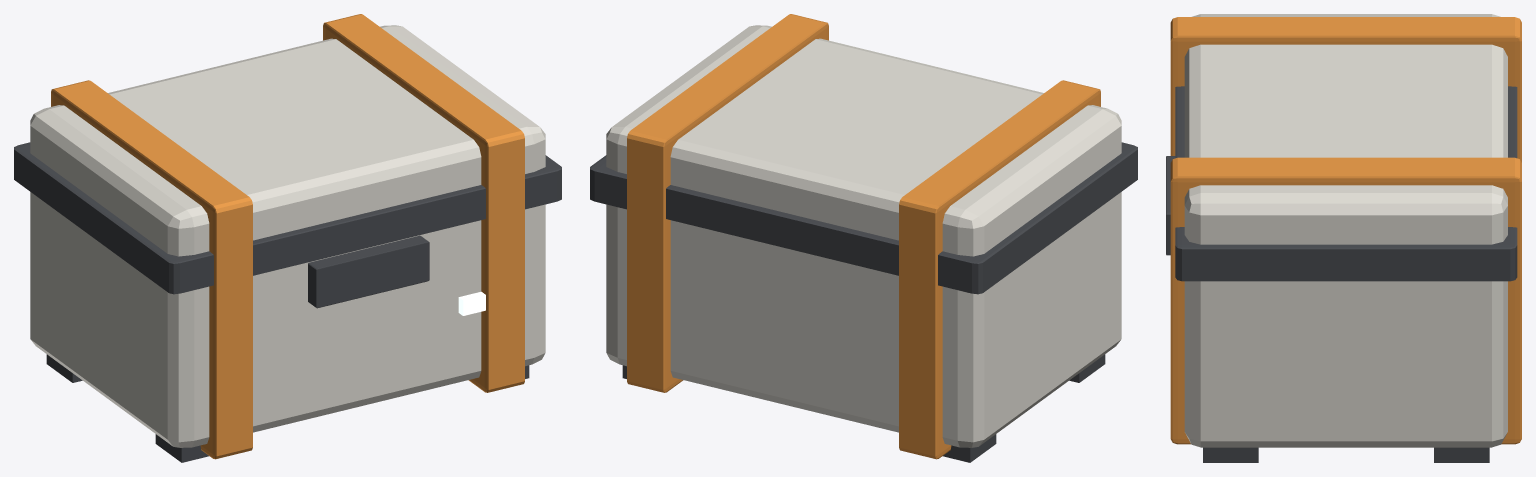
The model's file is crate.glb.
3 renders of one model, left to right at view 1: azimuth 30°, elevation 25°; view 2: azimuth 150°, elevation 25°; view 3: azimuth 270°, elevation 25°, orthographic. The views are drawn at different scales.
Visible parts, largest first — view 1: crate; view 2: crate; view 3: crate.
Boxes of the visible parts, x1,y1,x2,y2 form: crate: [14, 14, 561, 462]; crate: [590, 14, 1137, 462]; crate: [1166, 14, 1521, 462].
Bounding box in the file's own units: 1.04 × 0.66 × 0.77.
